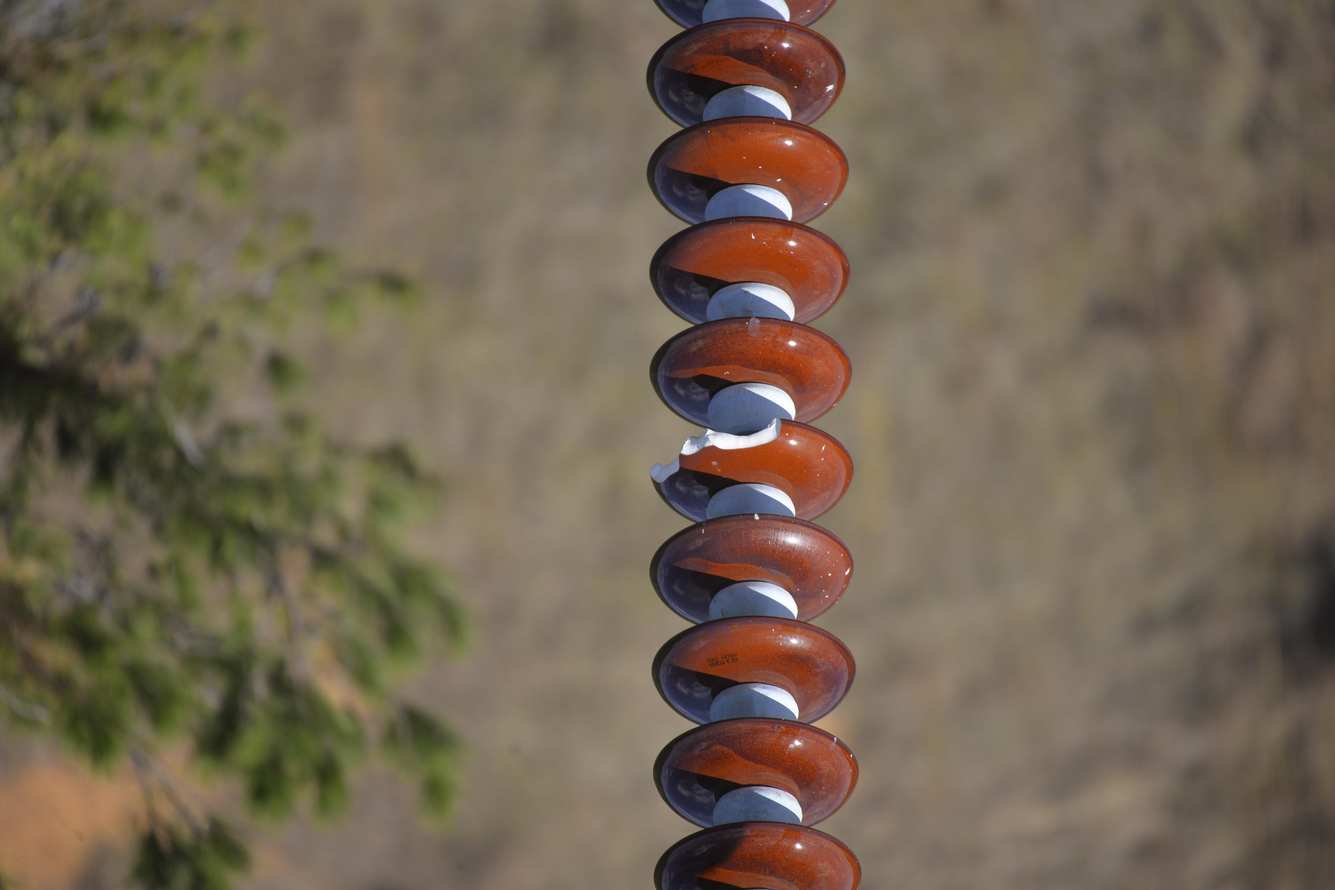damaged: (648, 414, 794, 487)
insulator: (644, 0, 864, 890)
